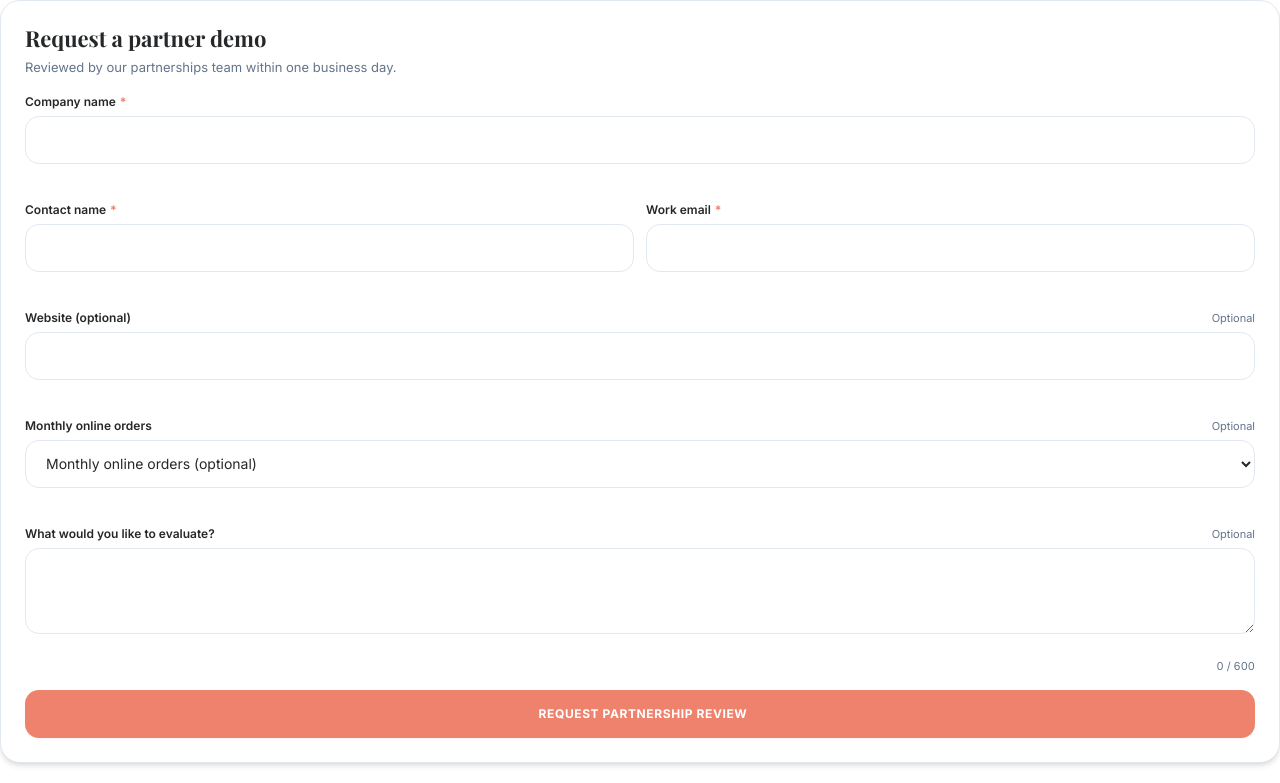
Test: C. LeadForm › preserves what the user typed when the request fails
In the field labelled "Company name": (640, 140) left=25, top=116, right=1255, bottom=164, type "Integrity Brand"
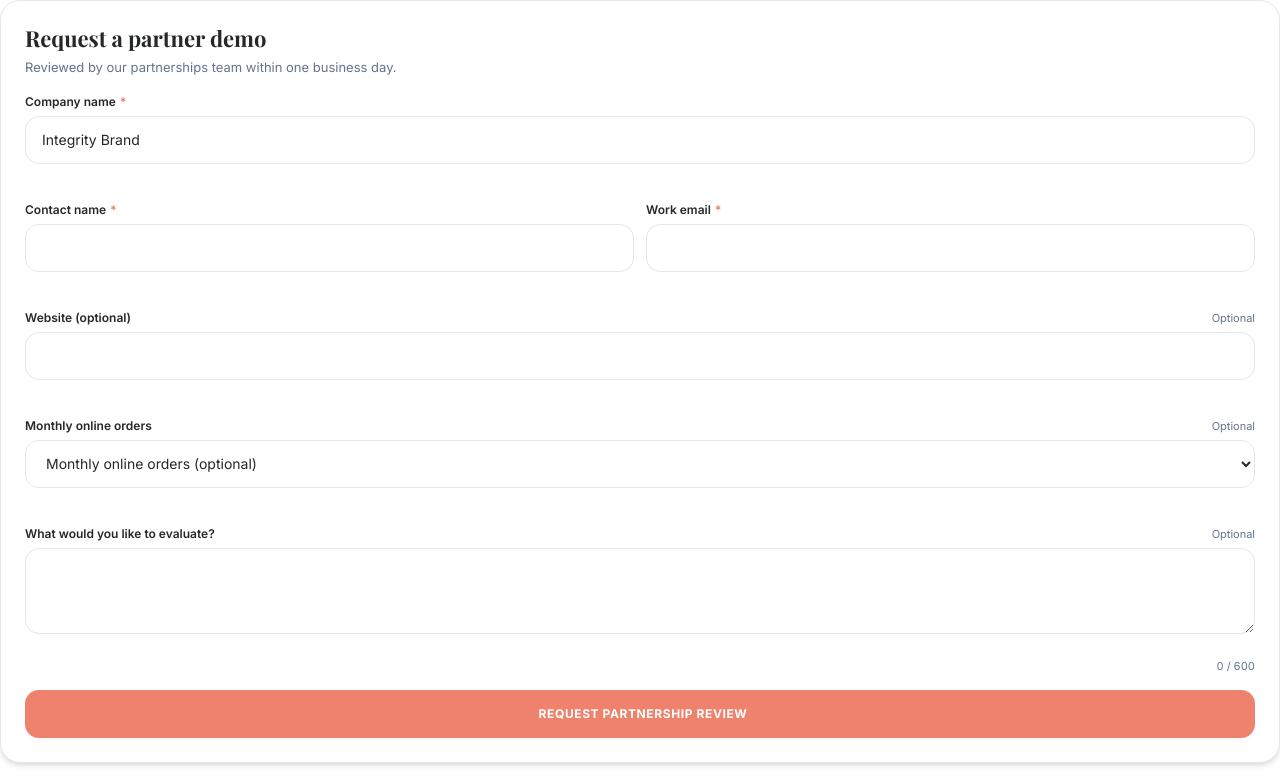
In the field labelled "Contact name": (330, 248) left=25, top=224, right=634, bottom=272, type "Amina Partner"
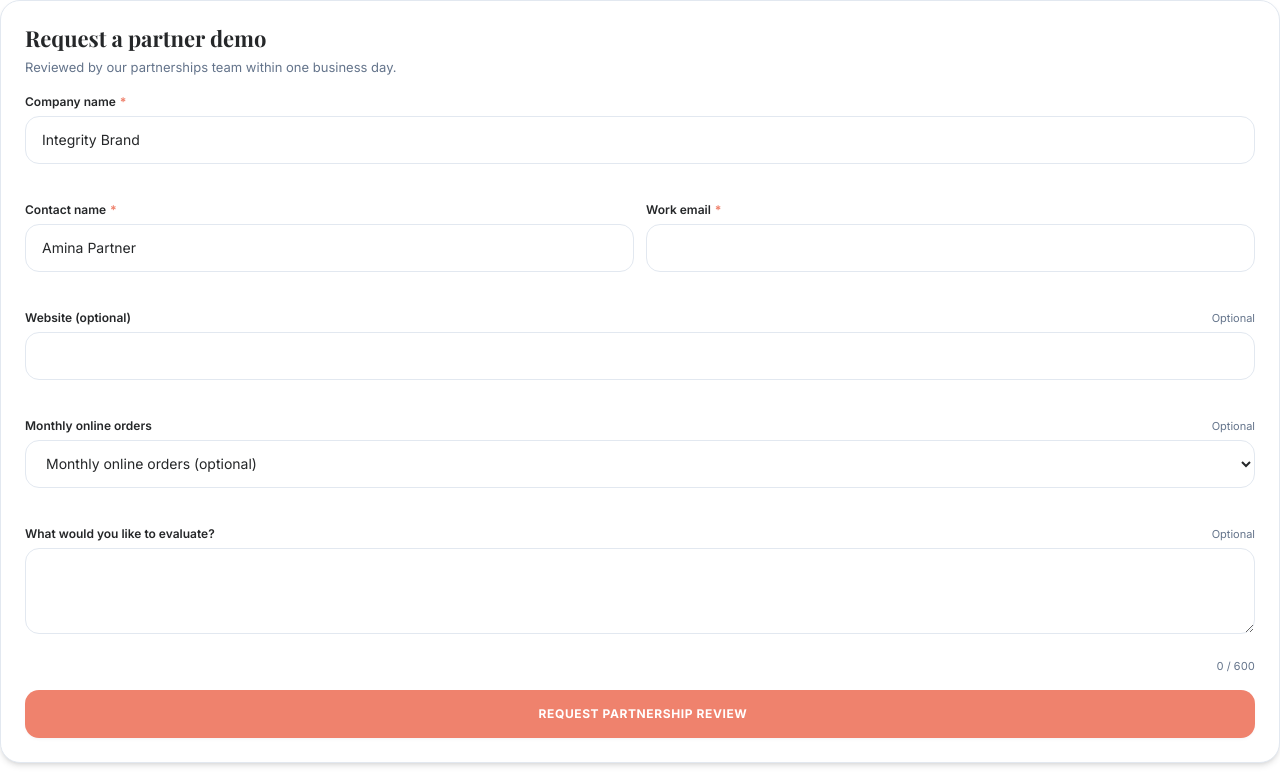
In the field labelled "Work email": (950, 248) left=646, top=224, right=1255, bottom=272, type "amina@example.com"
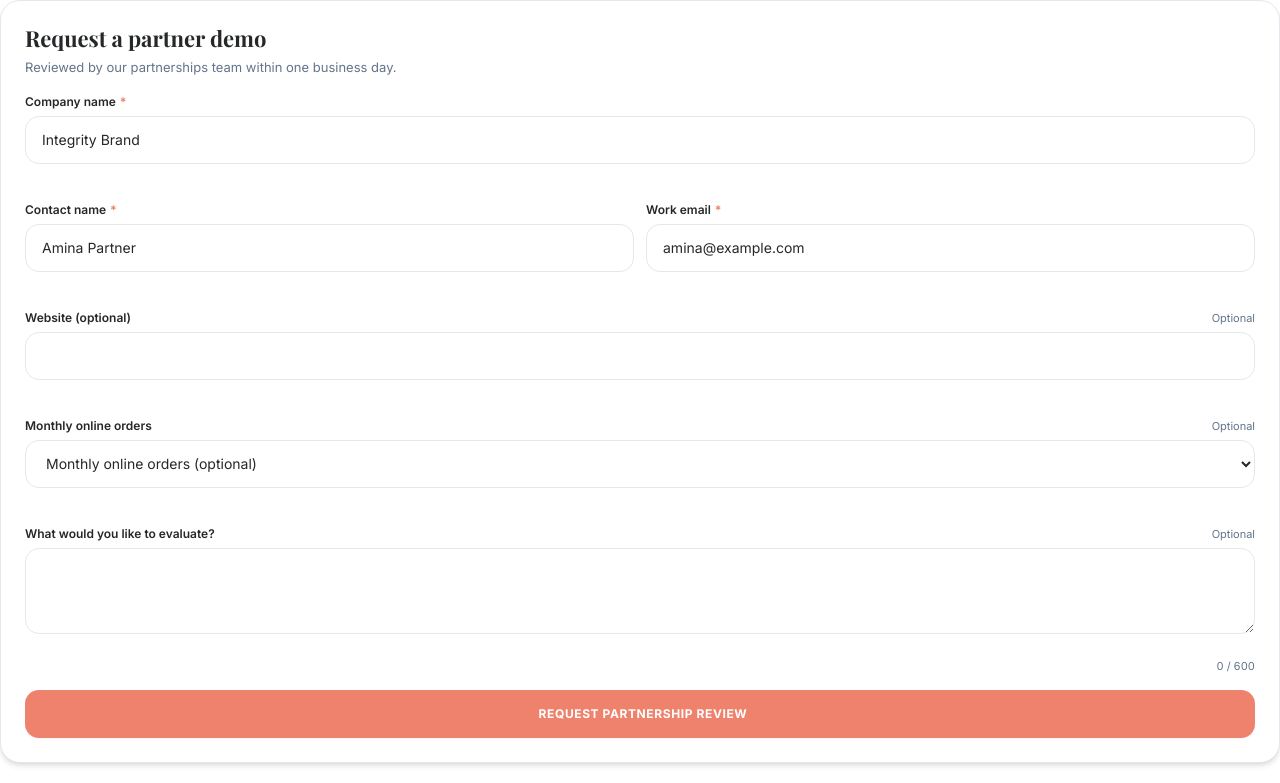
Click the button with test id "lead-submit": (640, 714) left=25, top=690, right=1255, bottom=738
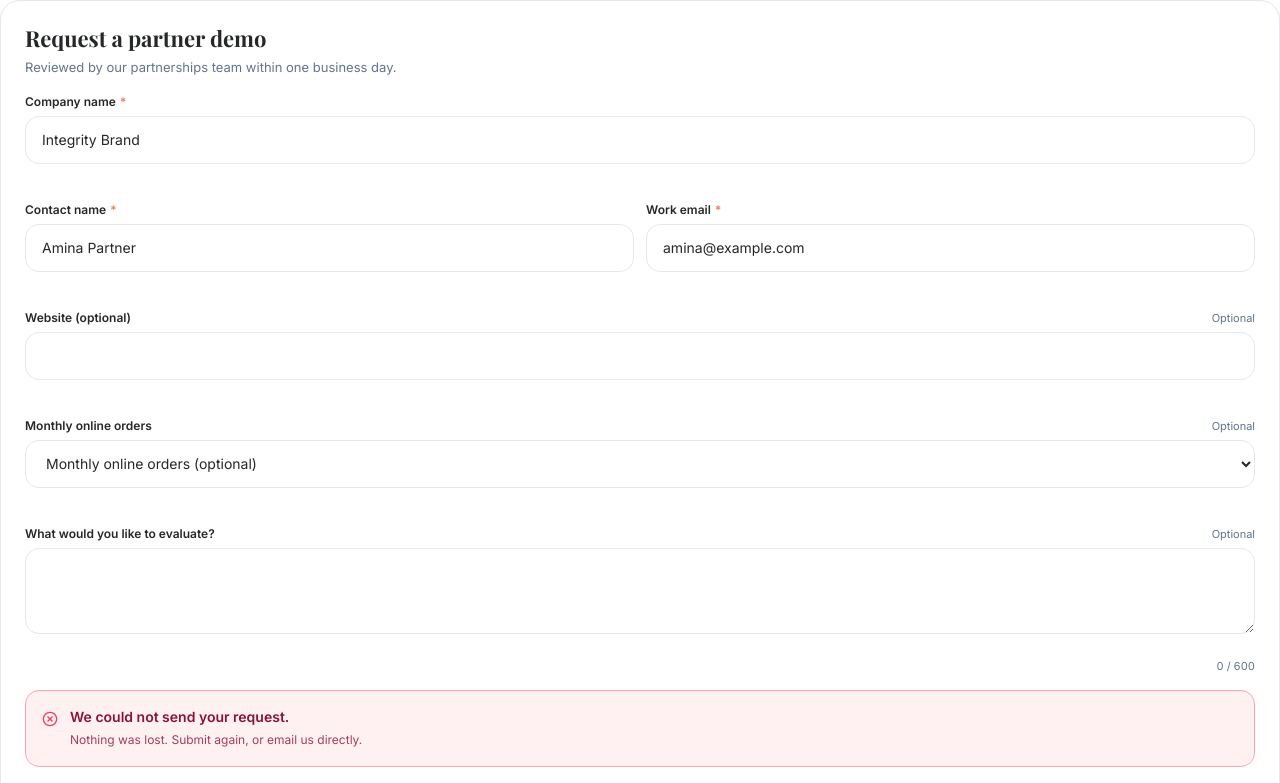
Expected: the message with test id "lead-result" is shown, left=25, top=690, right=1255, bottom=767
